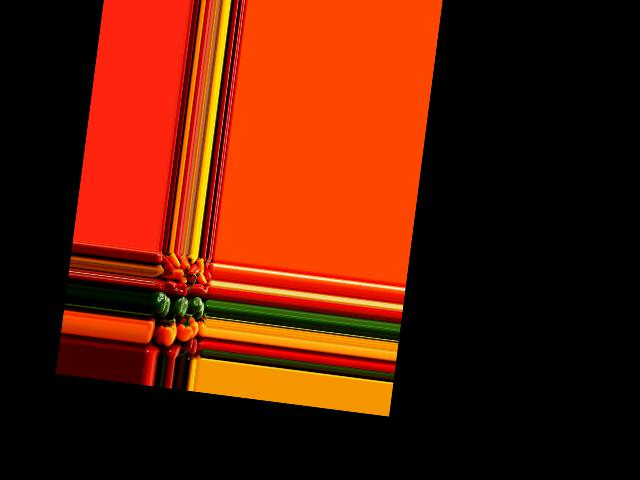bell_pepper: (159, 254, 176, 274)
